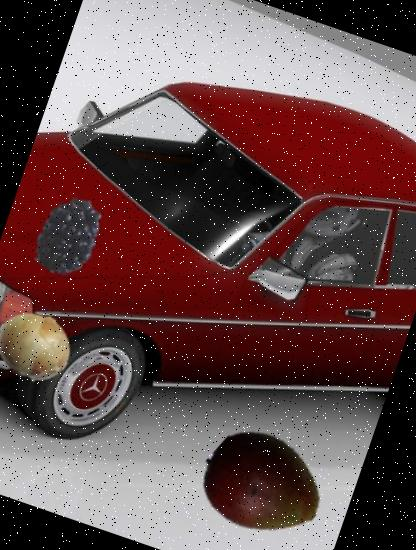Mango: (187, 411, 338, 550)
Mulberry: (19, 185, 121, 287)
Onion: (0, 296, 83, 394)
